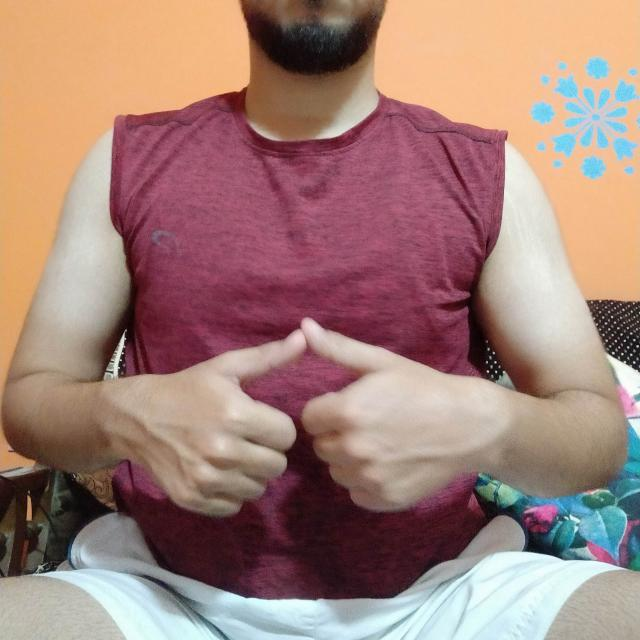A: (131, 310, 498, 518)
